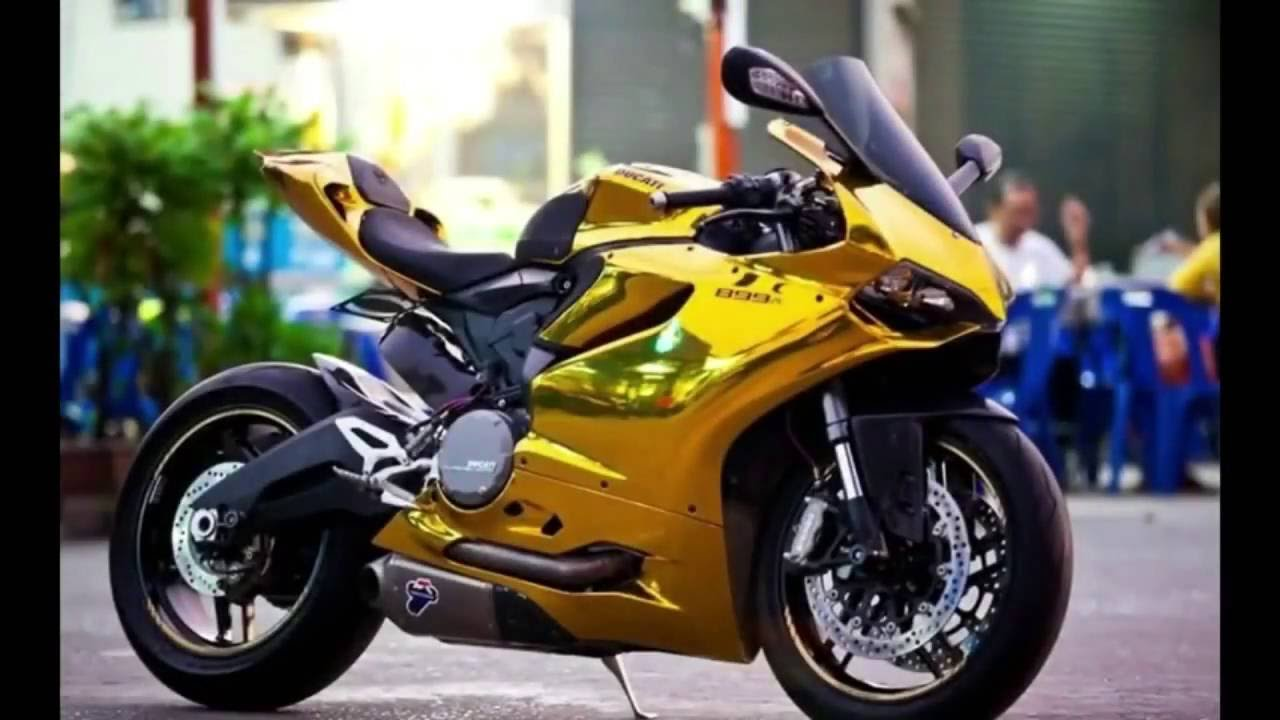motorcycle: (109, 47, 1076, 716)
